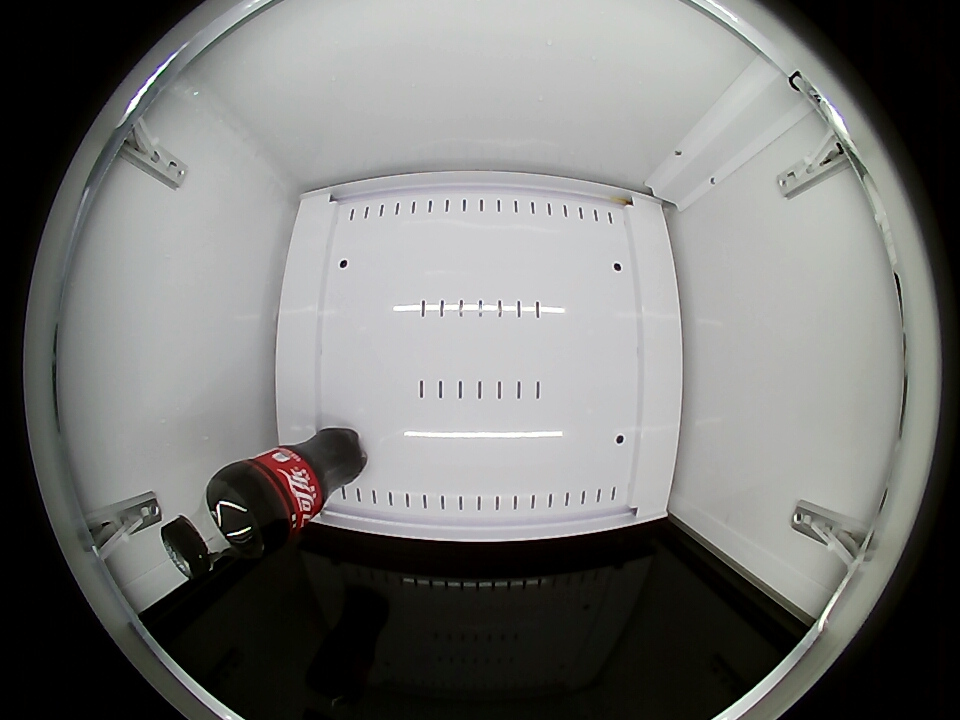lingdukele-b: (161, 479, 263, 579)
